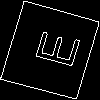E: (25, 25, 81, 70)
